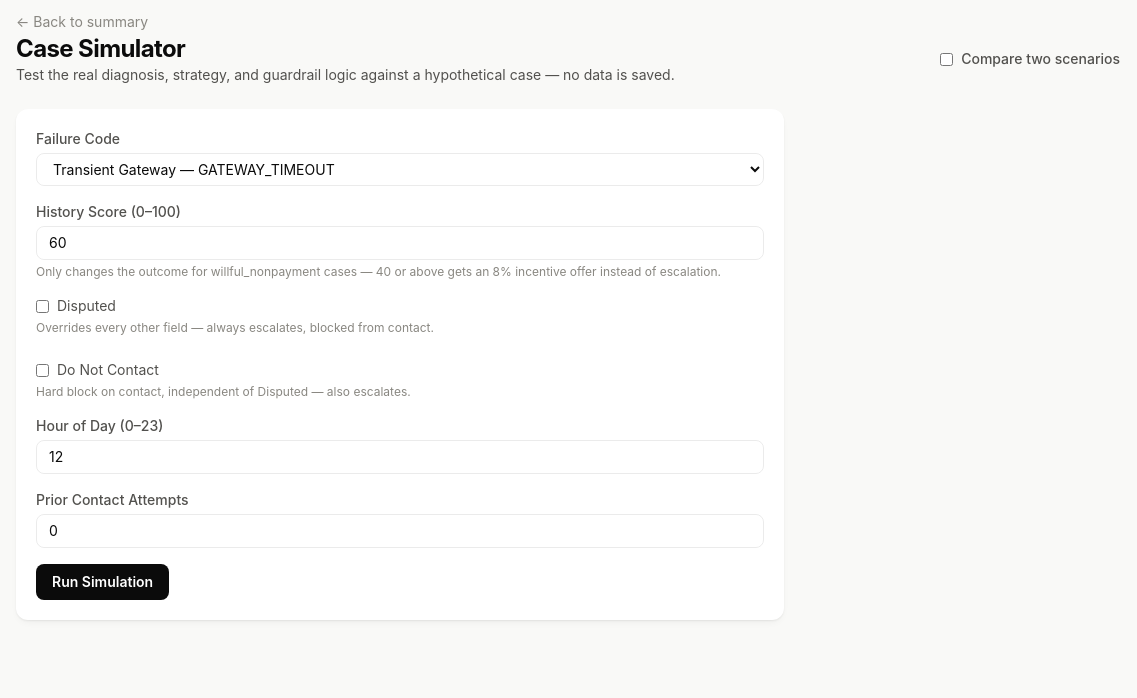
CaseSimulator › disables the Failure Code dropdown when Disputed is checked
Expected: the dropdown labelled "Failure Code" is enabled, [36,153,764,186]
Click the checkbox labelled "Disputed".
click(42, 306)  # box [36,300,49,312]
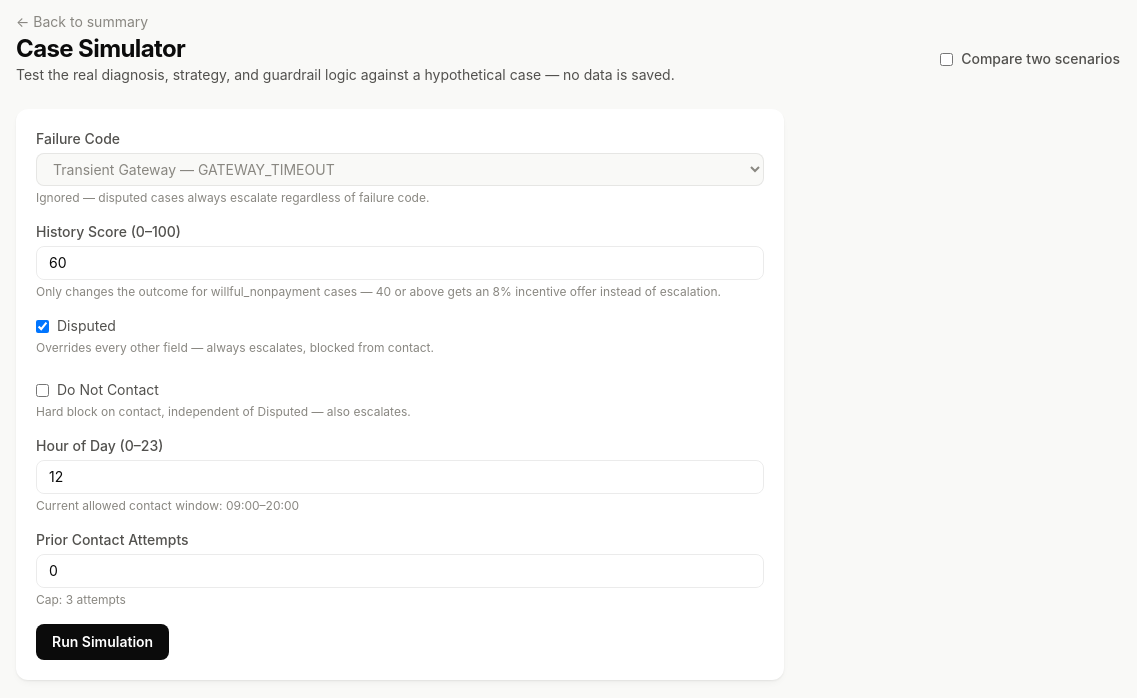
Expected: the dropdown labelled "Failure Code" is disabled, [36,153,764,186]
